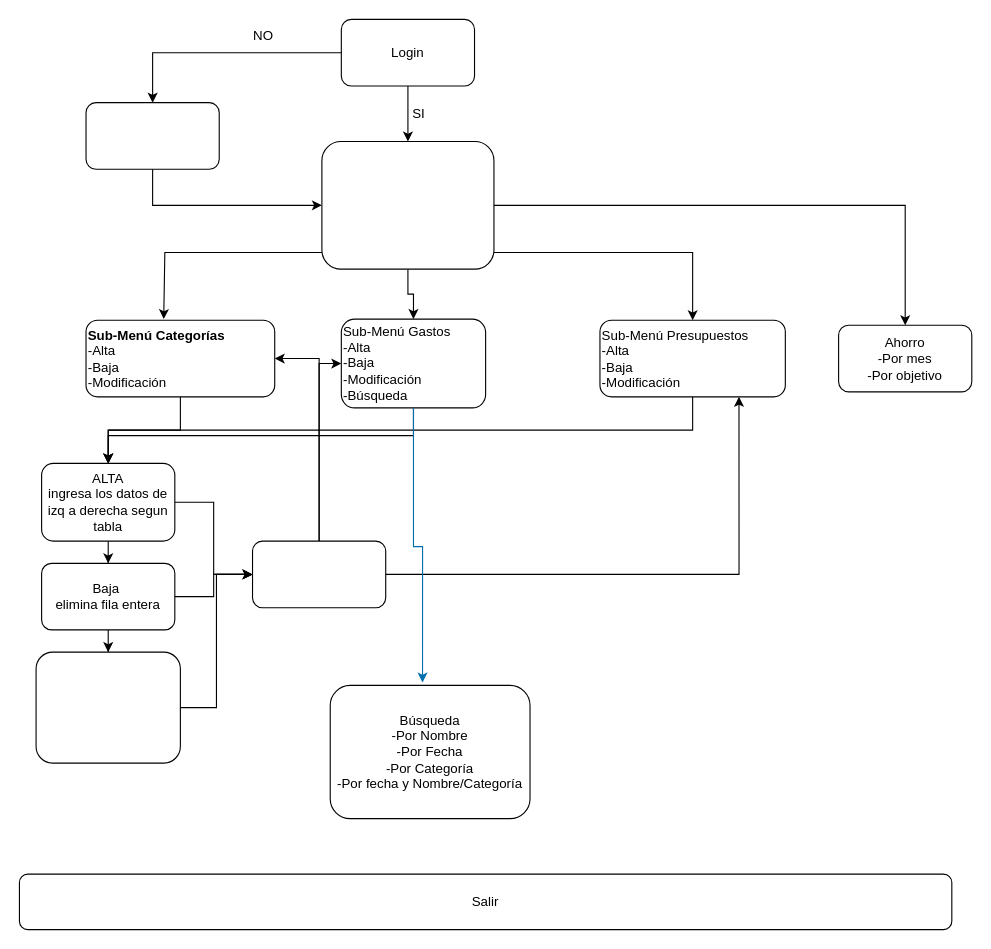
This 991x949 diagram has some shape labels left out. Here are the shapes that lost their labels. From the top down, the centre of each, then its label:
the point at 152,135: volver a intener 3 veces
the point at 407,204: Menú Principal -Gastos -Categorías -Presupuestos -Ahorros -Salir
the point at 318,574: Volver atrás (Sub-menú)
the point at 107,707: Modificación -sub menu donde elegis que campo modificar -Cambiar todo
